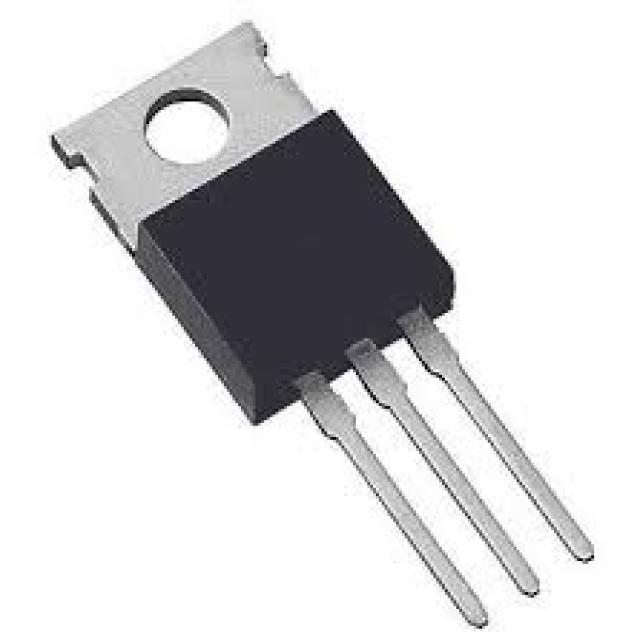Transistor: (54, 28, 459, 429)
